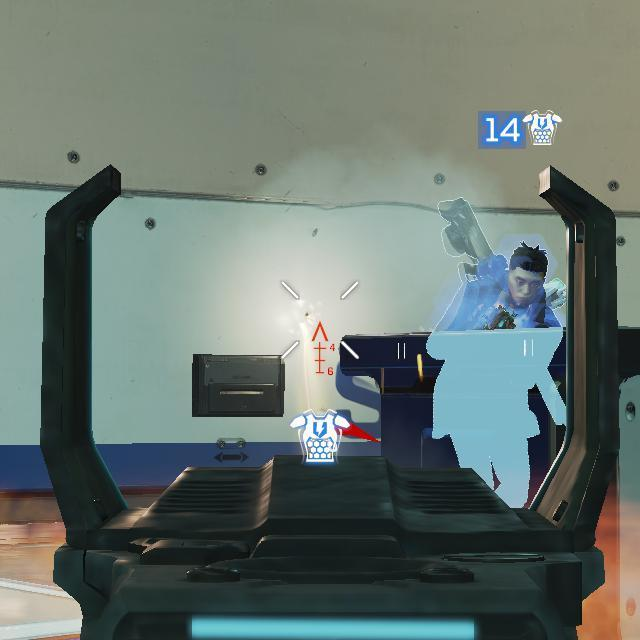avatar: (430, 242, 569, 333)
